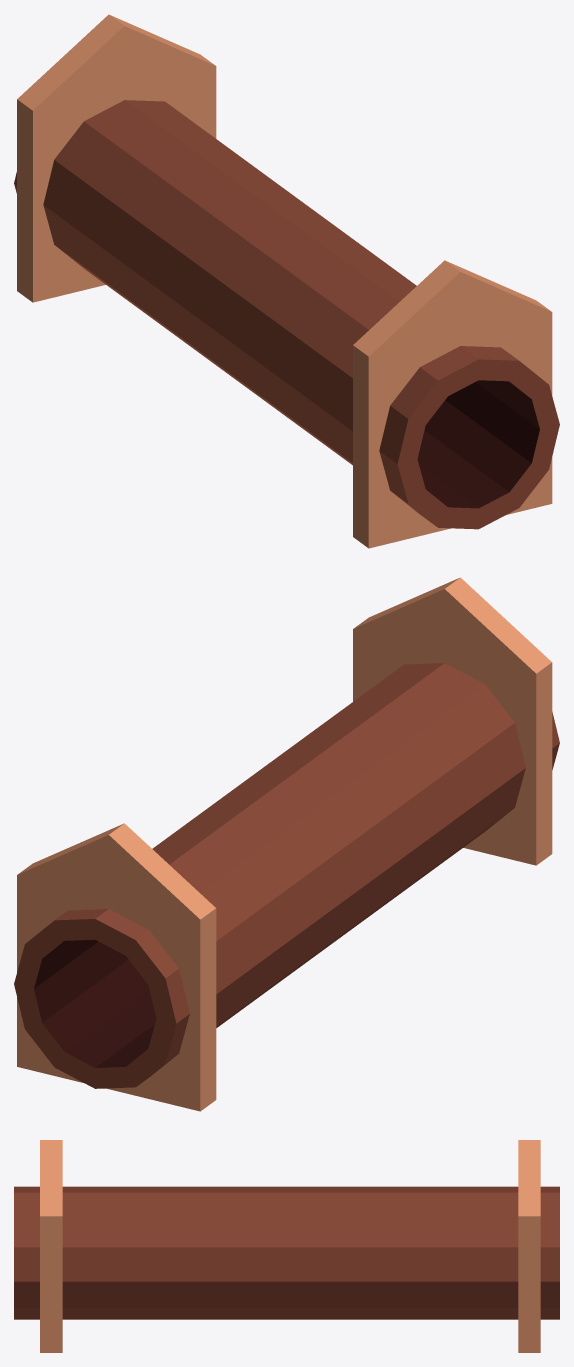
Rendered from Tunnel.fbx.
3 views of the same model, one above another, from view 1: azimuth 30°, elevation 25°; view 2: azimuth 150°, elevation 25°; view 3: azimuth 270°, elevation 25° (orthographic). The views are drawn at different scales.
Visible parts, largest first — view 1: Cylinder, Cube, Cube.001; view 2: Cylinder, Cube.001, Cube; view 3: Cylinder, Cube, Cube.001.
Boxes of the visible parts, x1=… form: Cylinder: x1=14, y1=100, x2=559, y2=529; Cube: x1=353, y1=260, x2=552, y2=548; Cube.001: x1=17, y1=14, x2=216, y2=302; Cylinder: x1=14, y1=663, x2=559, y2=1088; Cube.001: x1=17, y1=823, x2=216, y2=1111; Cube: x1=353, y1=577, x2=552, y2=865; Cylinder: x1=14, y1=1186, x2=559, y2=1319; Cube: x1=40, y1=1140, x2=62, y2=1352; Cube.001: x1=518, y1=1140, x2=540, y2=1352.
Size of the model in its own units: 614 by 814 by 2225.
